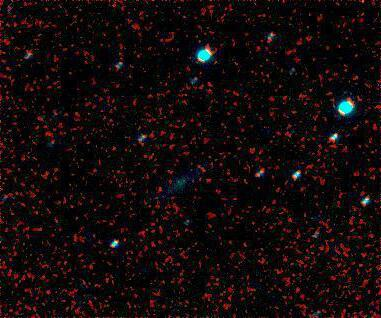star: (145, 174, 175, 204)
